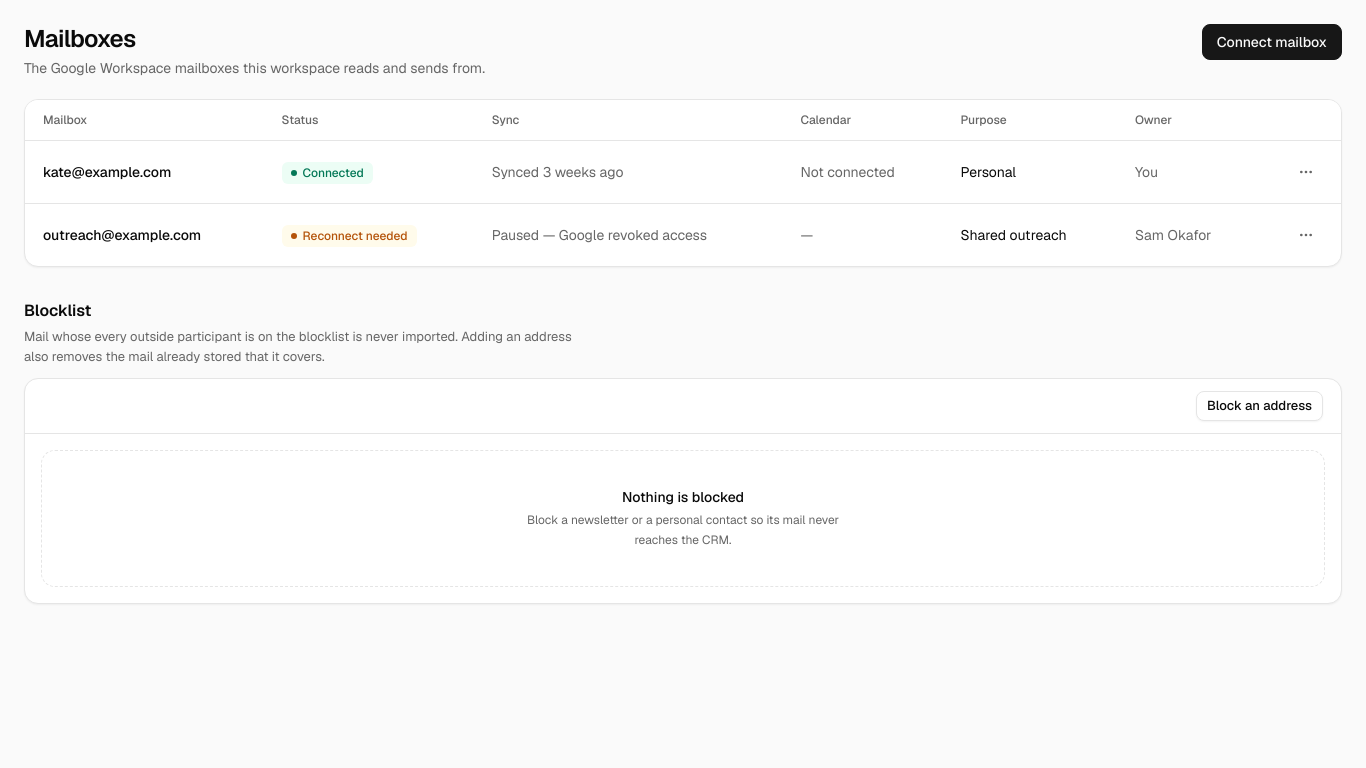
Test: FR-CRMS-2: the blocklist removes mail it covers › adds an entry and says how much stored mail it removed
The width and height of the screenshot is (1366, 768).
Click the button "Block an address" at (1259,406), box [1196,391,1323,421]
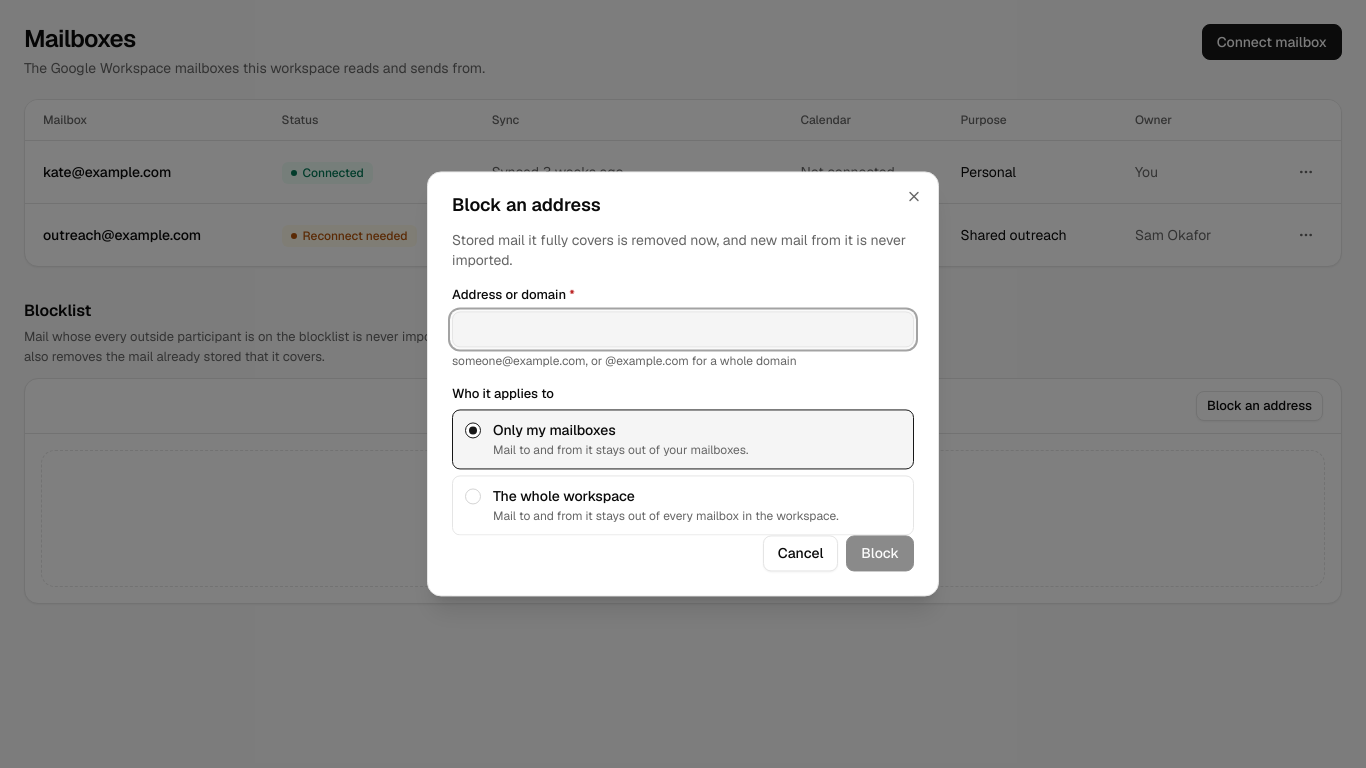
Type "@Spam.example" into the field labelled "Address or domain *" at (683,329), box [452,311,914,347]
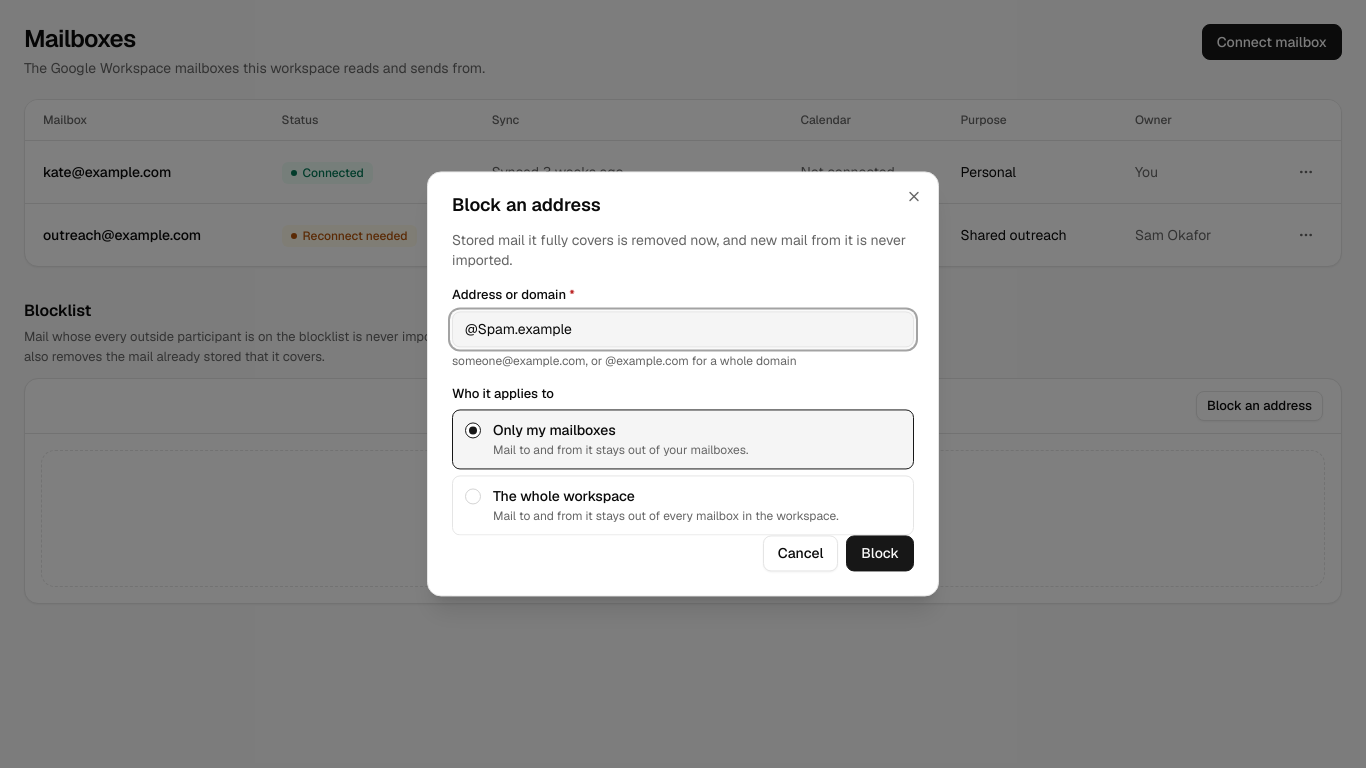
Click the button "Block" at (880,554), box [846,536,914,572]
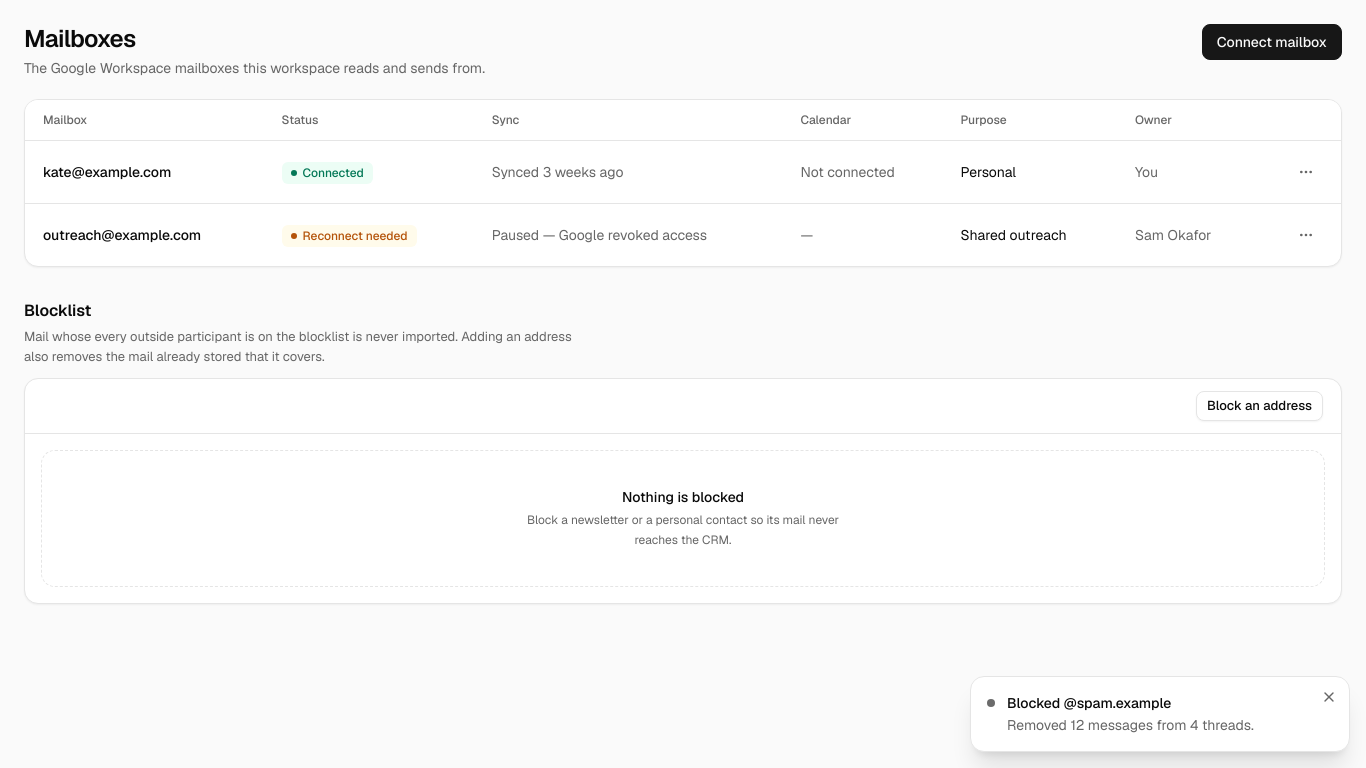
expect the text "Removed 12 messages from 4 threads." is shown: met, box [1007,715,1254,735]
